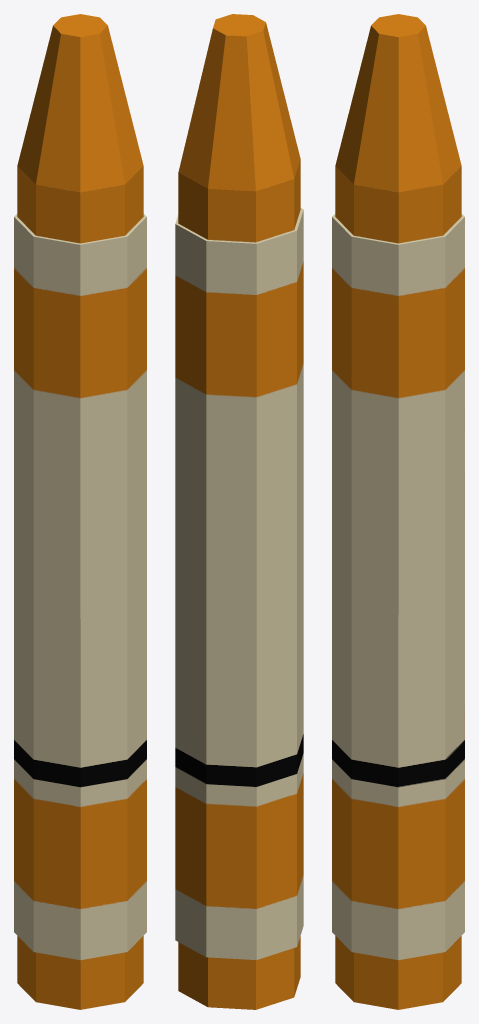
The model's file is CrayonOrange.fbx.
3 renders of one model, left to right at view 1: azimuth 90°, elevation 25°; view 2: azimuth 150°, elevation 25°; view 3: azimuth 270°, elevation 25°, orthographic.
Visible parts, largest first — view 1: BakeCrayonOrange; view 2: BakeCrayonOrange; view 3: BakeCrayonOrange.
Part boxes in pixels (bbox=[...]): BakeCrayonOrange: bbox=[14, 14, 146, 1009]; BakeCrayonOrange: bbox=[175, 14, 303, 1009]; BakeCrayonOrange: bbox=[332, 14, 464, 1009].
Bounding box in the file's own units: 89.18 × 710 × 89.18.
